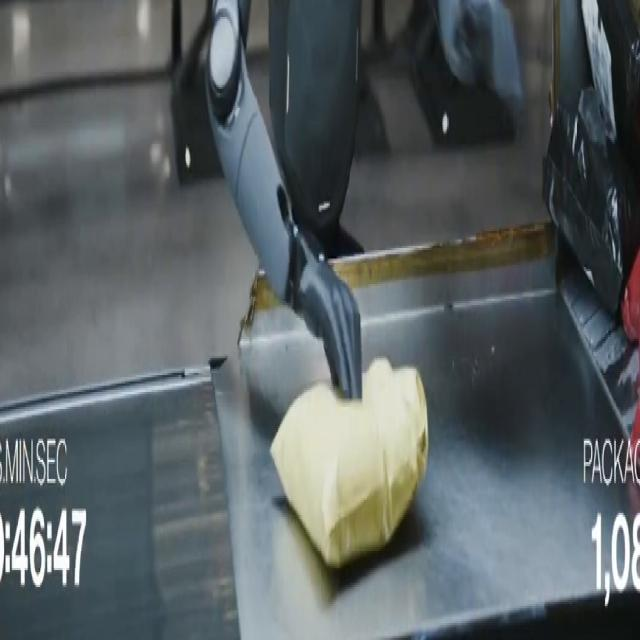package: (271, 359, 428, 567), (544, 87, 639, 313), (582, 0, 639, 173), (438, 0, 523, 114), (621, 255, 639, 343)
